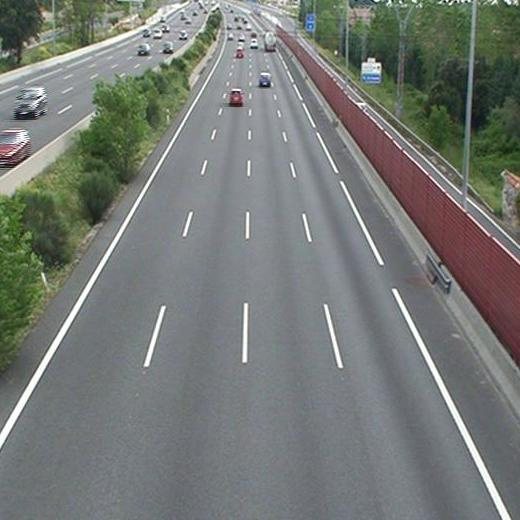car: (229, 90, 242, 105), (260, 74, 271, 86), (250, 38, 258, 48), (236, 48, 243, 57)
tank-truck: (263, 30, 275, 53)
